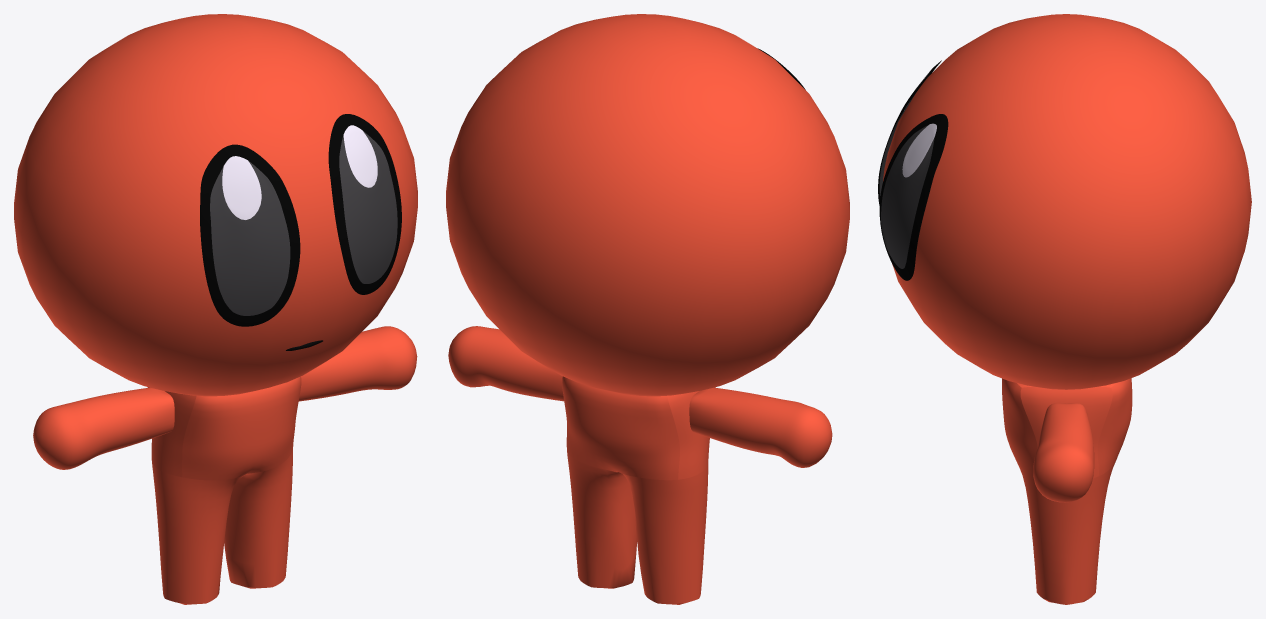
3 renders of one model, left to right at view 1: azimuth 30°, elevation 25°; view 2: azimuth 150°, elevation 25°; view 3: azimuth 270°, elevation 25°, orthographic. The views are drawn at different scales.
Visible parts, largest first — view 1: Sphere, Cube, Plane, Cube.001; view 2: Sphere, Cube, Cube.001; view 3: Sphere, Cube, Plane, Cube.001.
Part boxes in pixels (x1,y1,x2,y2): Sphere: (14, 14, 417, 396); Cube: (147, 376, 301, 604); Plane: (200, 114, 401, 326); Cube.001: (33, 326, 417, 469); Sphere: (446, 14, 849, 396); Cube: (562, 376, 715, 604); Cube.001: (448, 326, 832, 467); Sphere: (883, 14, 1251, 389); Cube: (1002, 378, 1132, 604); Plane: (878, 60, 948, 280); Cube.001: (1033, 403, 1094, 502).
Size of the model in its own units: 88.15 by 125 by 77.86.
